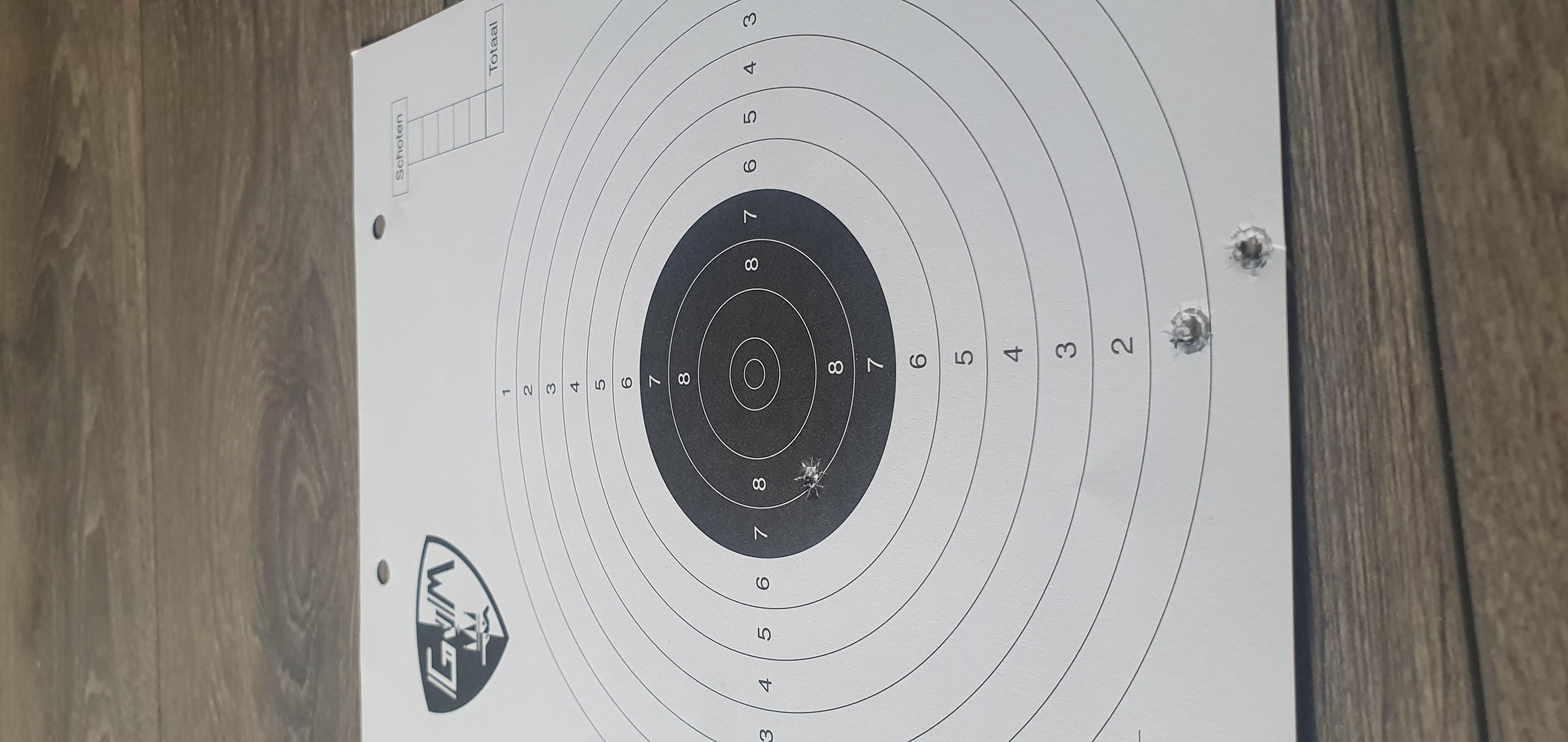hole: (970, 578, 1109, 606), (805, 550, 926, 574), (510, 377, 597, 390)
